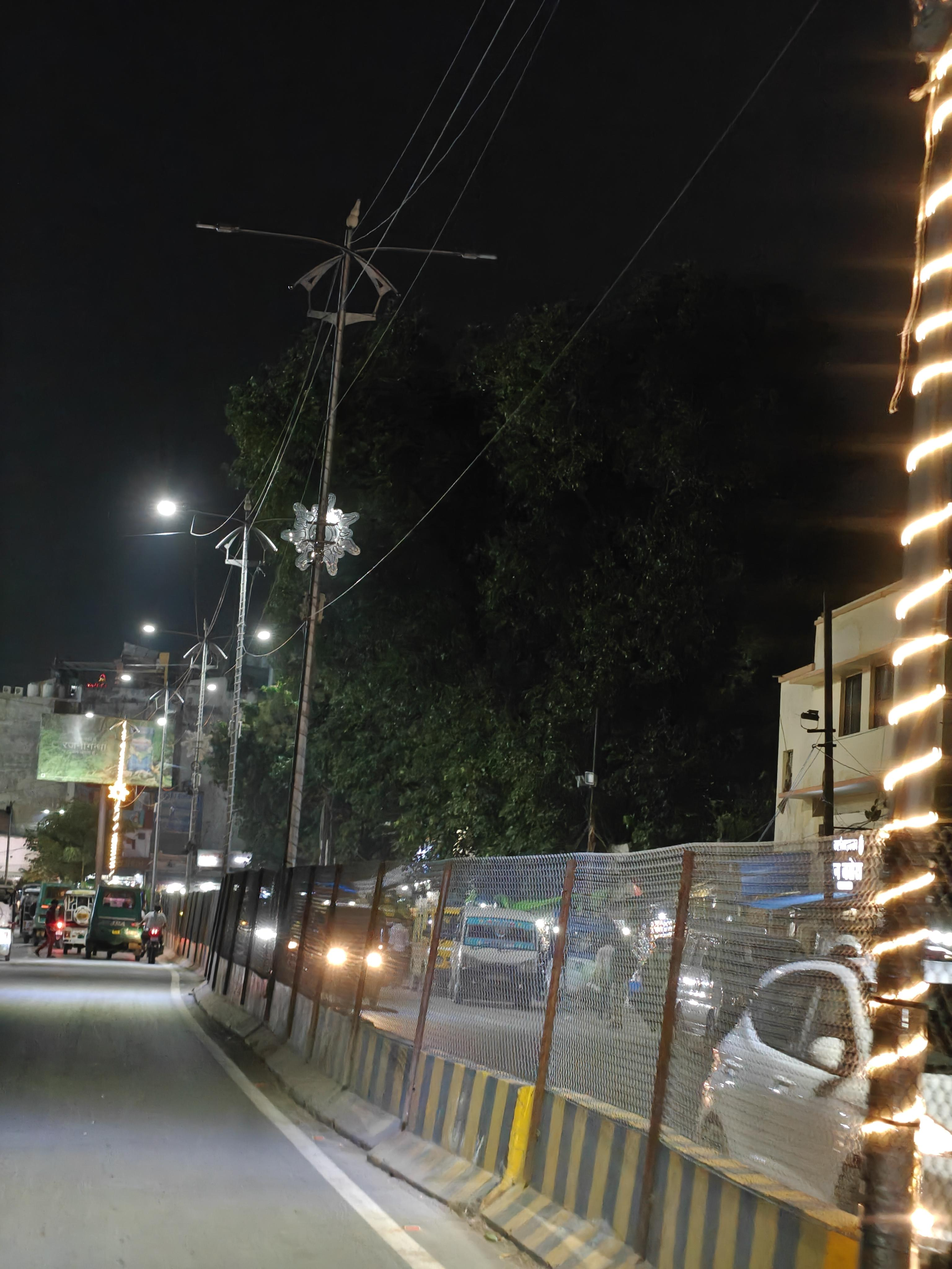streetlight: (195, 218, 341, 251), (442, 249, 497, 262)
